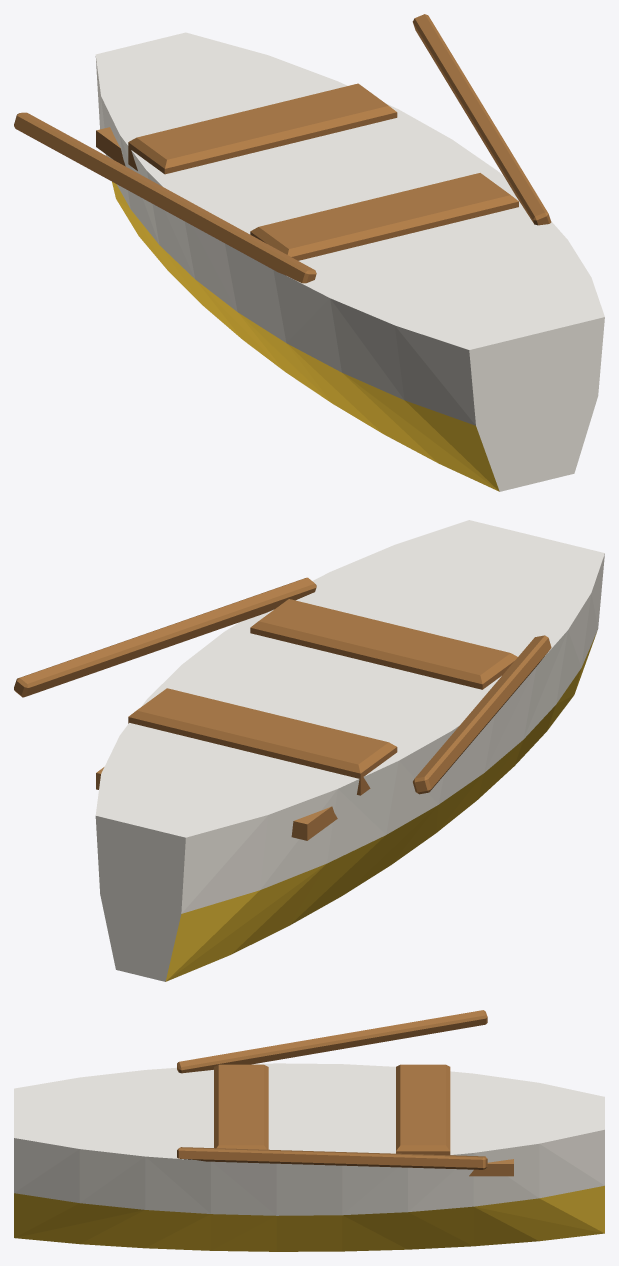
The model's file is Boat_2.glb.
The picture shows the model from 3 angles, top to bottom: view 1: azimuth 30°, elevation 25°; view 2: azimuth 150°, elevation 25°; view 3: azimuth 270°, elevation 25°; orthographic projection. The views are drawn at different scales.
Parts seen in each view (by area): view 1: Boat_2; view 2: Boat_2; view 3: Boat_2.
Part boxes in pixels (x1=…): Boat_2: x1=14, y1=14, x2=604, y2=491; Boat_2: x1=14, y1=520, x2=604, y2=981; Boat_2: x1=14, y1=1010, x2=604, y2=1251.
Size of the model in its own units: 7.9 by 3.42 by 13.
1 material, 1 textured.
